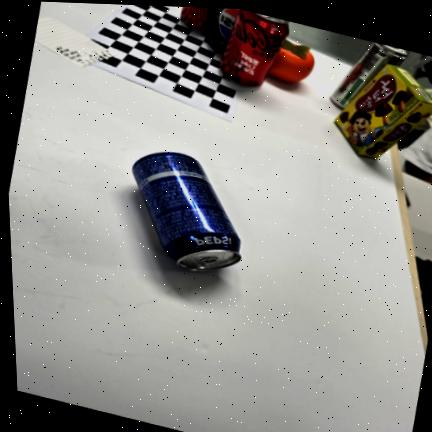can_coke_decaf: (181, 7, 217, 34)
can_coke_zero: (220, 9, 289, 88)
can_pepsi: (132, 153, 241, 271)
can_pepsi_zero: (208, 8, 240, 55)
